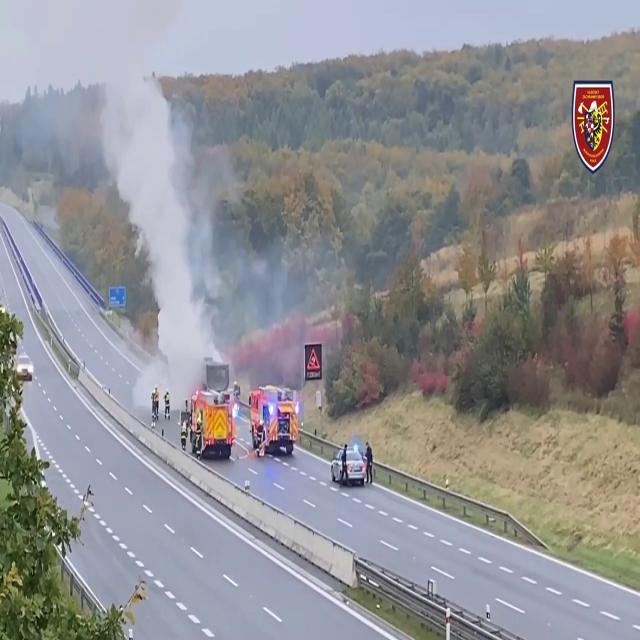Smoke: (95, 15, 271, 405)
